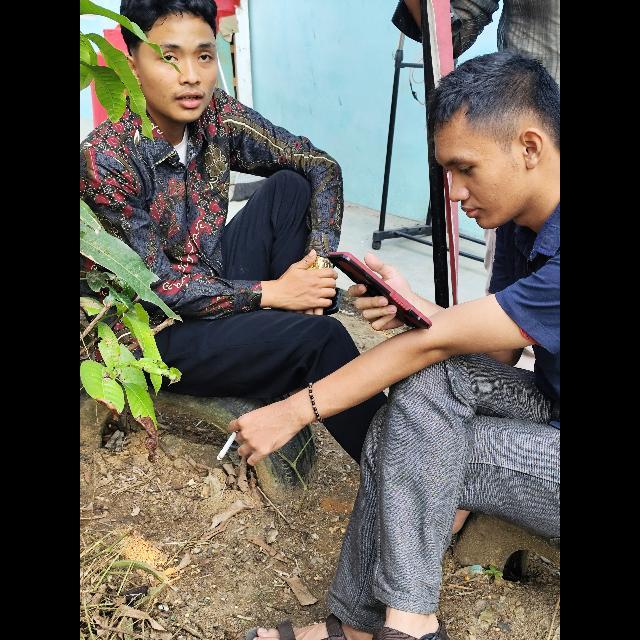rokok: (216, 428, 238, 462)
